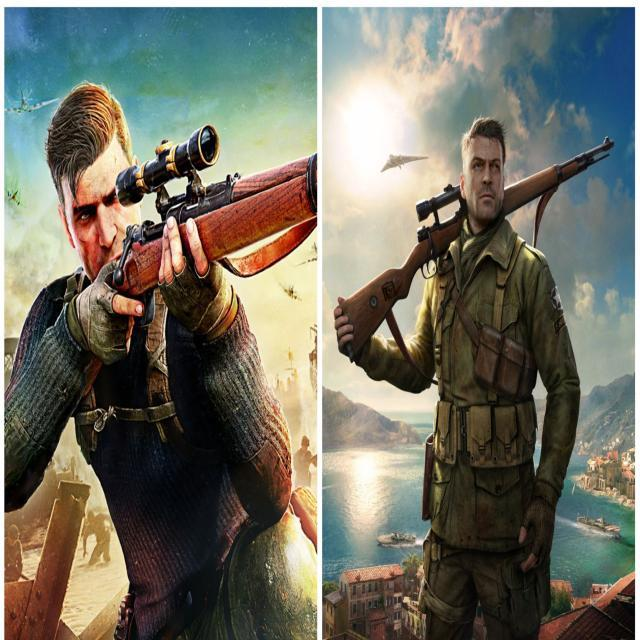scope: (123, 120, 245, 199), (419, 183, 466, 215)
sniper rifle: (336, 138, 622, 355), (90, 118, 318, 387)
